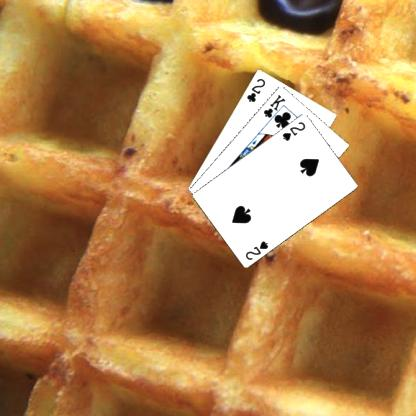2C: (244, 75, 266, 103)
2S: (279, 119, 307, 142), (243, 238, 269, 261)
KC: (261, 92, 287, 124)
